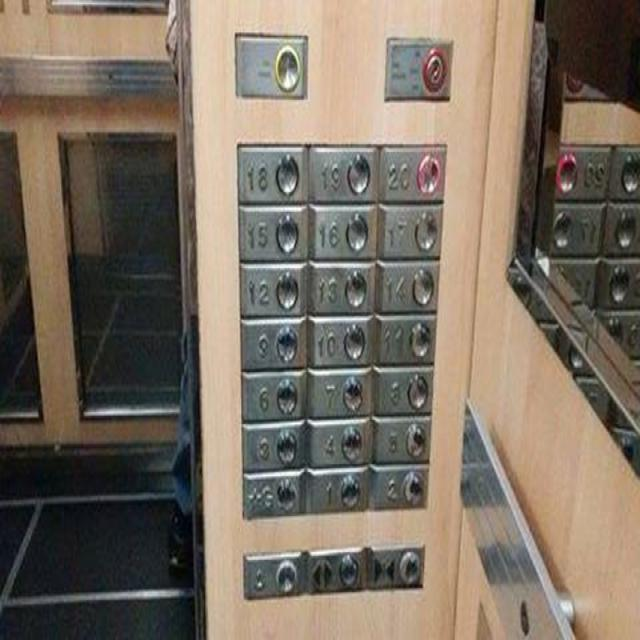1: (304, 462, 371, 514)
10: (305, 312, 376, 369)
11: (374, 309, 436, 368)
12: (237, 257, 308, 319)
13: (307, 258, 377, 318)
14: (374, 256, 441, 315)
15: (236, 201, 309, 264)
16: (307, 198, 379, 262)
17: (376, 198, 443, 262)
18: (236, 142, 308, 206)
19: (308, 140, 380, 207)
2: (369, 461, 429, 511)
20: (377, 140, 447, 204)
3: (238, 419, 307, 473)
4: (306, 415, 372, 469)
5: (372, 413, 432, 467)
6: (238, 367, 308, 421)
7: (305, 362, 373, 418)
8: (371, 363, 434, 417)
9: (238, 314, 308, 370)
alarm: (240, 547, 305, 600)
bt_keyhole: (383, 33, 453, 104)
close: (368, 541, 424, 595)
open: (304, 544, 368, 596)
sG: (240, 467, 306, 520)
text_blur: (231, 28, 308, 103)
unknown: (550, 143, 610, 200), (546, 203, 606, 257)
